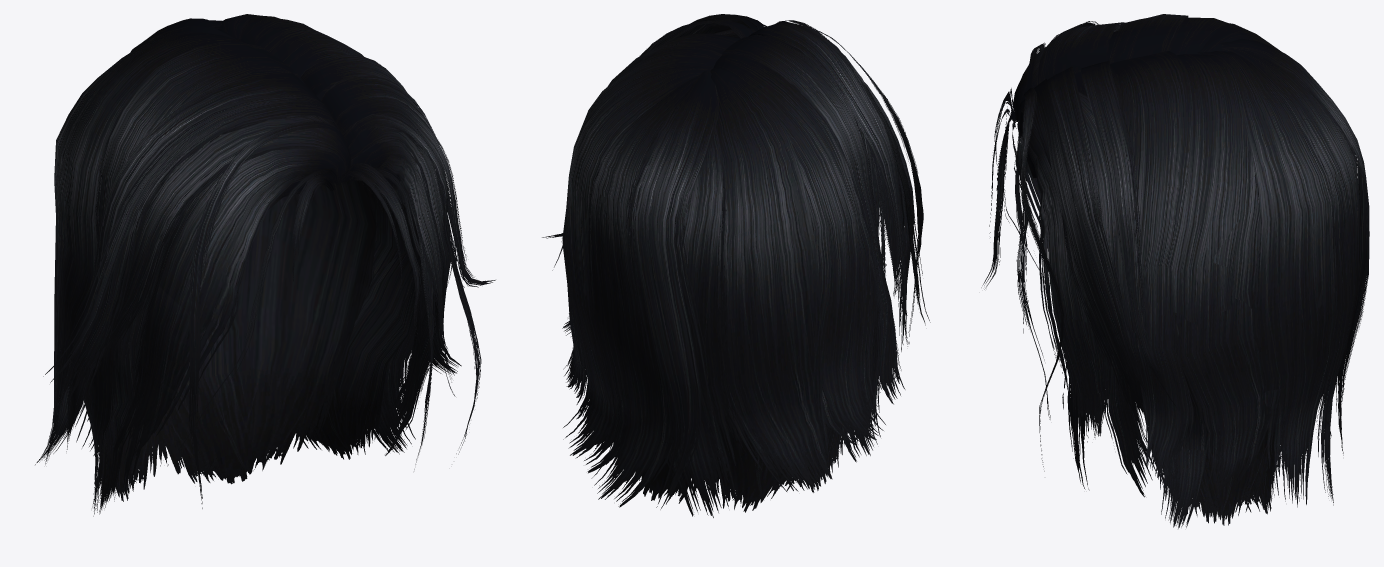
File: haircut.fbx
3 renders of one model, left to right at view 1: azimuth 30°, elevation 25°; view 2: azimuth 150°, elevation 25°; view 3: azimuth 270°, elevation 25°, orthographic. The views are drawn at different scales.
Visible parts, largest first — view 1: Head; view 2: Head; view 3: Head.
Boxes of the visible parts, x1,y1,x2,y2 form: Head: (35, 14, 495, 516); Head: (542, 14, 930, 517); Head: (981, 14, 1369, 528).
Size of the model in its own units: 0.283 by 0.2928 by 0.2222.
Materials: 1 (1 with a texture image).
